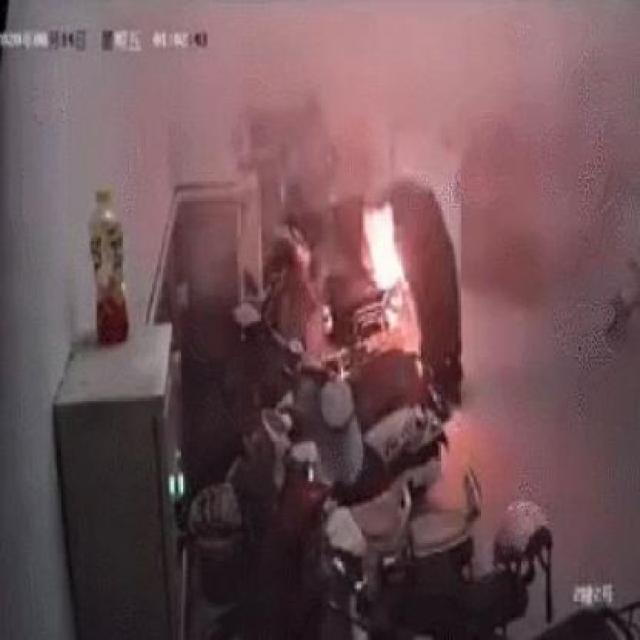Fire: (367, 203, 404, 302)
Smoke: (237, 12, 446, 208)
